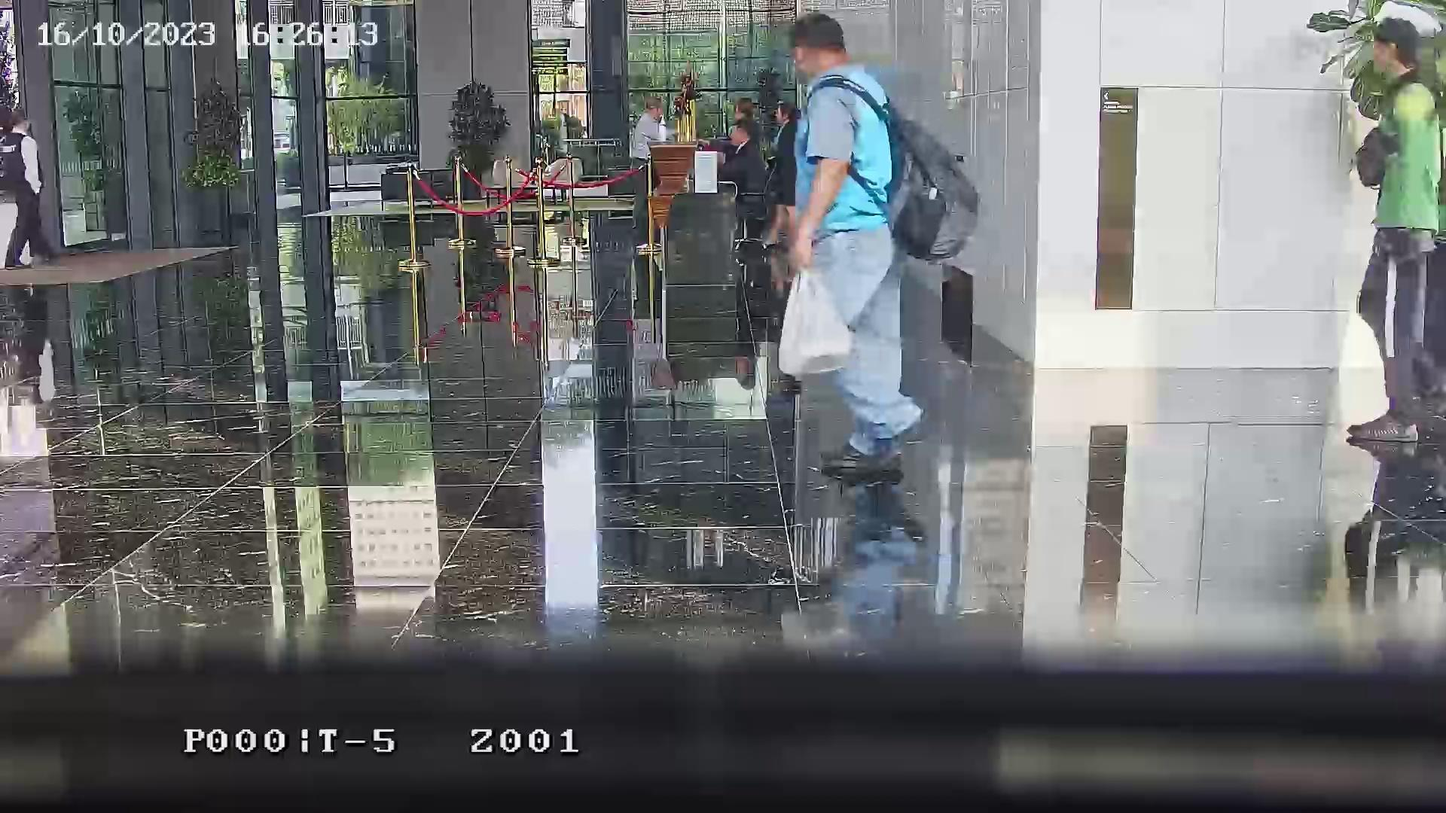person: (779, 13, 929, 455), (1349, 13, 1445, 430), (0, 108, 44, 270), (630, 95, 669, 255), (763, 102, 799, 247), (707, 120, 764, 205), (733, 98, 762, 139)
